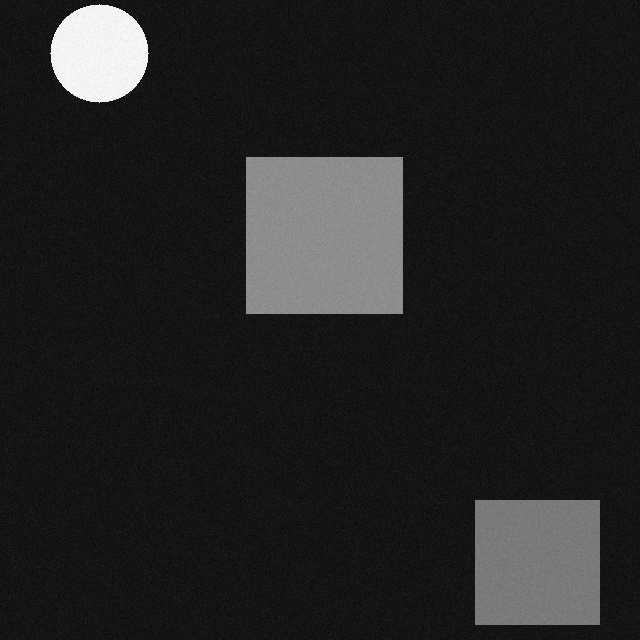circle: (55, 11, 153, 109)
square: (251, 164, 407, 320), (480, 507, 604, 631)
